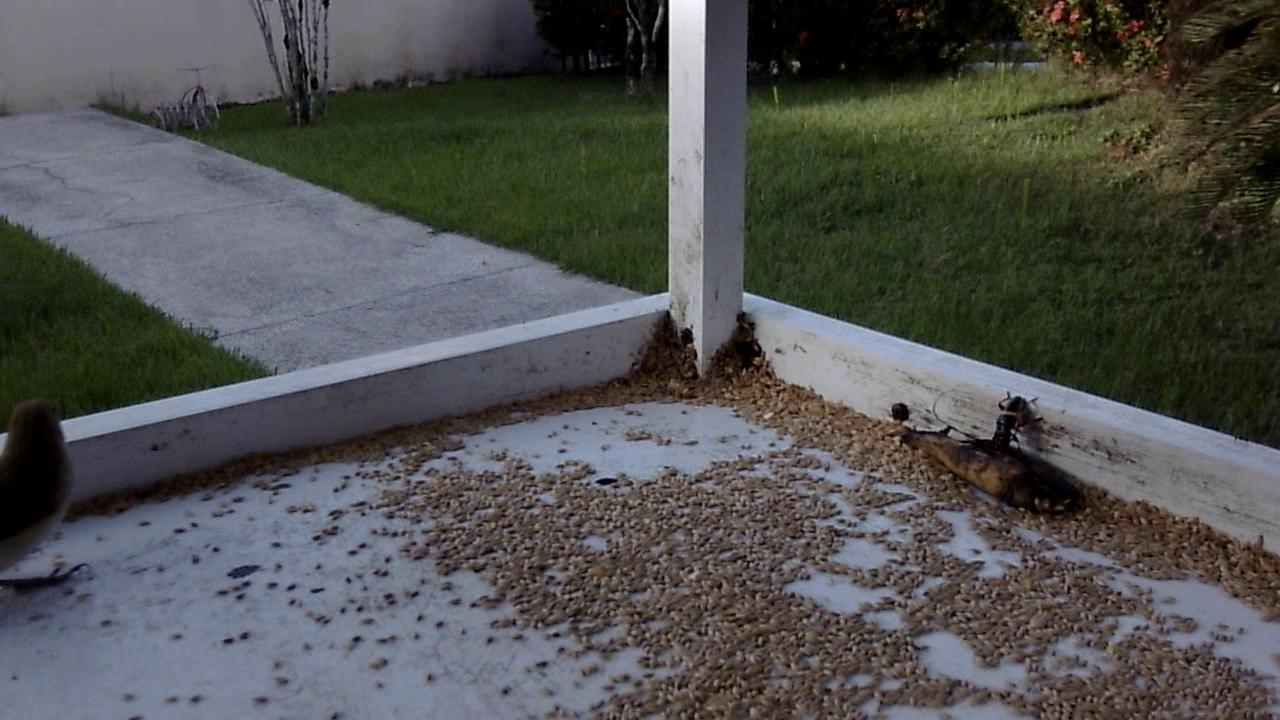canario_do_amazonas: (1, 389, 99, 611)
